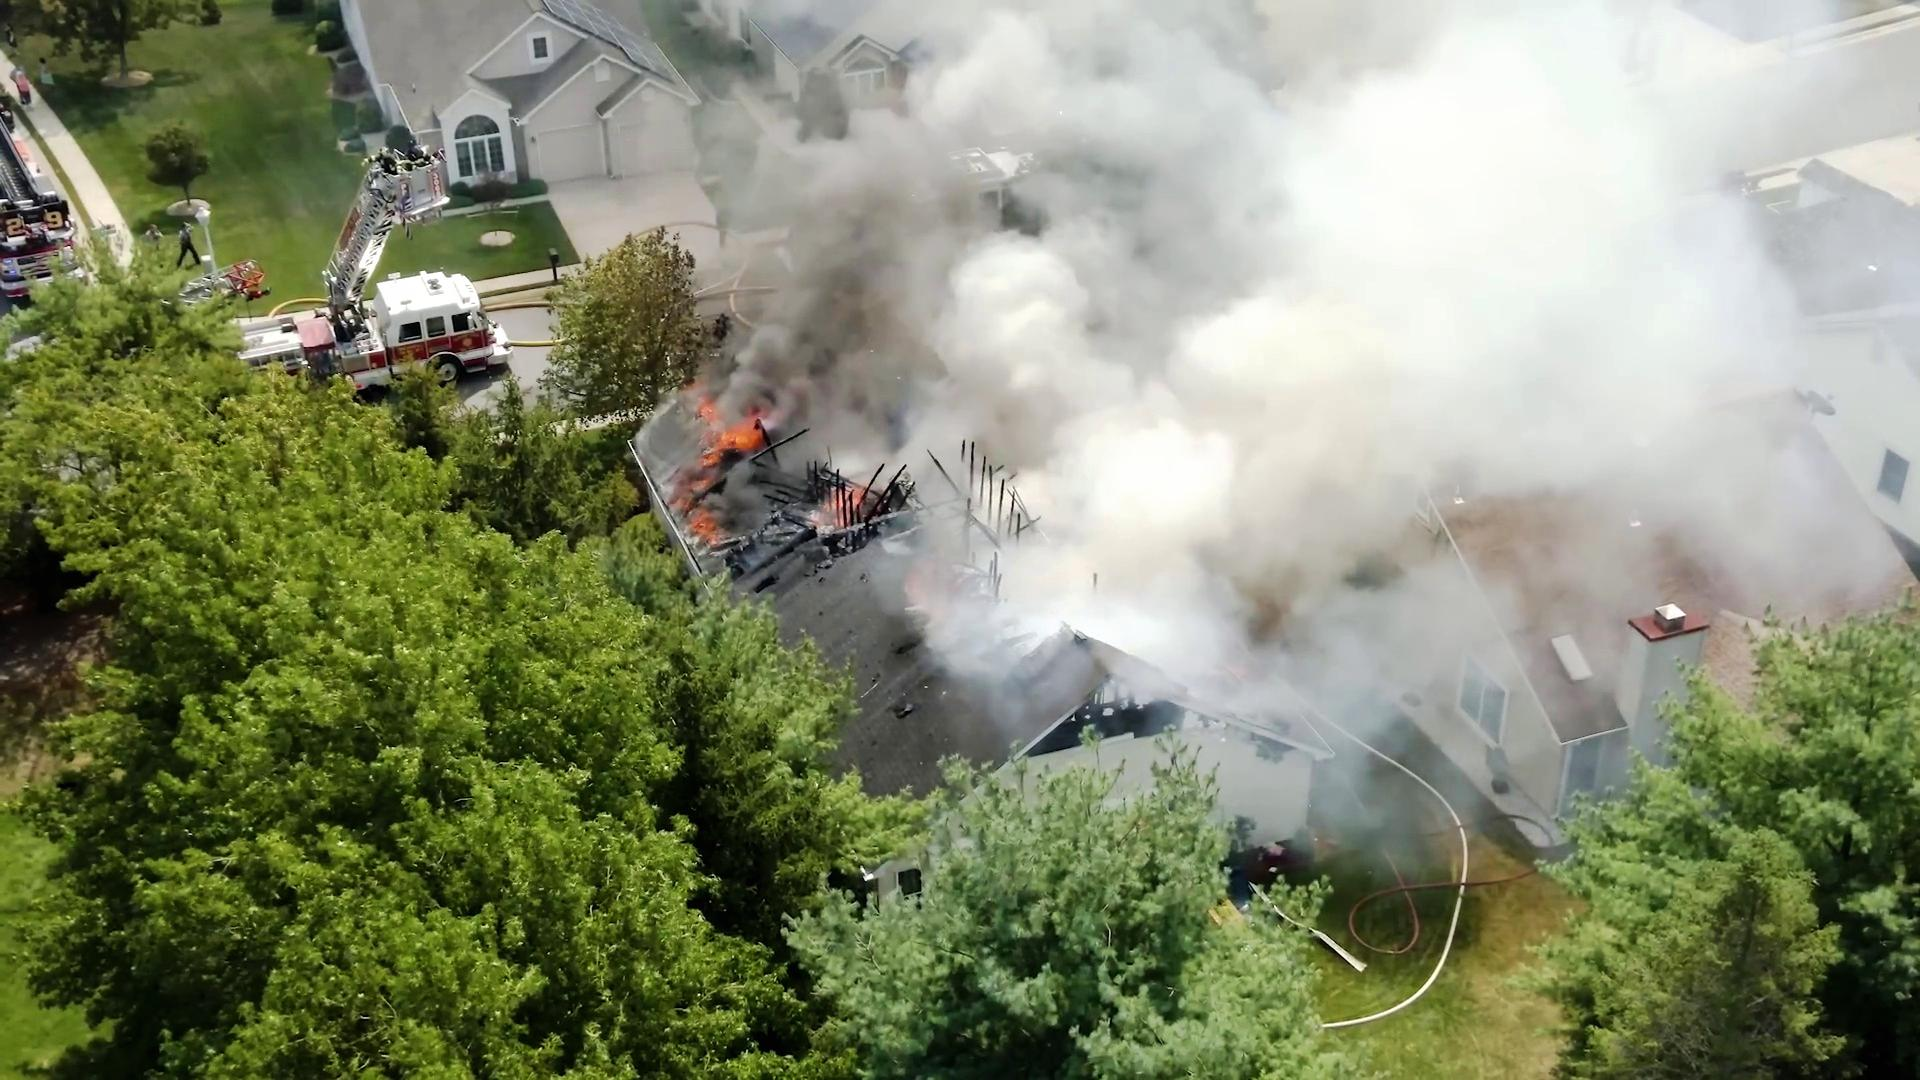smoke: (973, 146, 1284, 596), (1211, 165, 1556, 513), (800, 248, 1163, 456)
